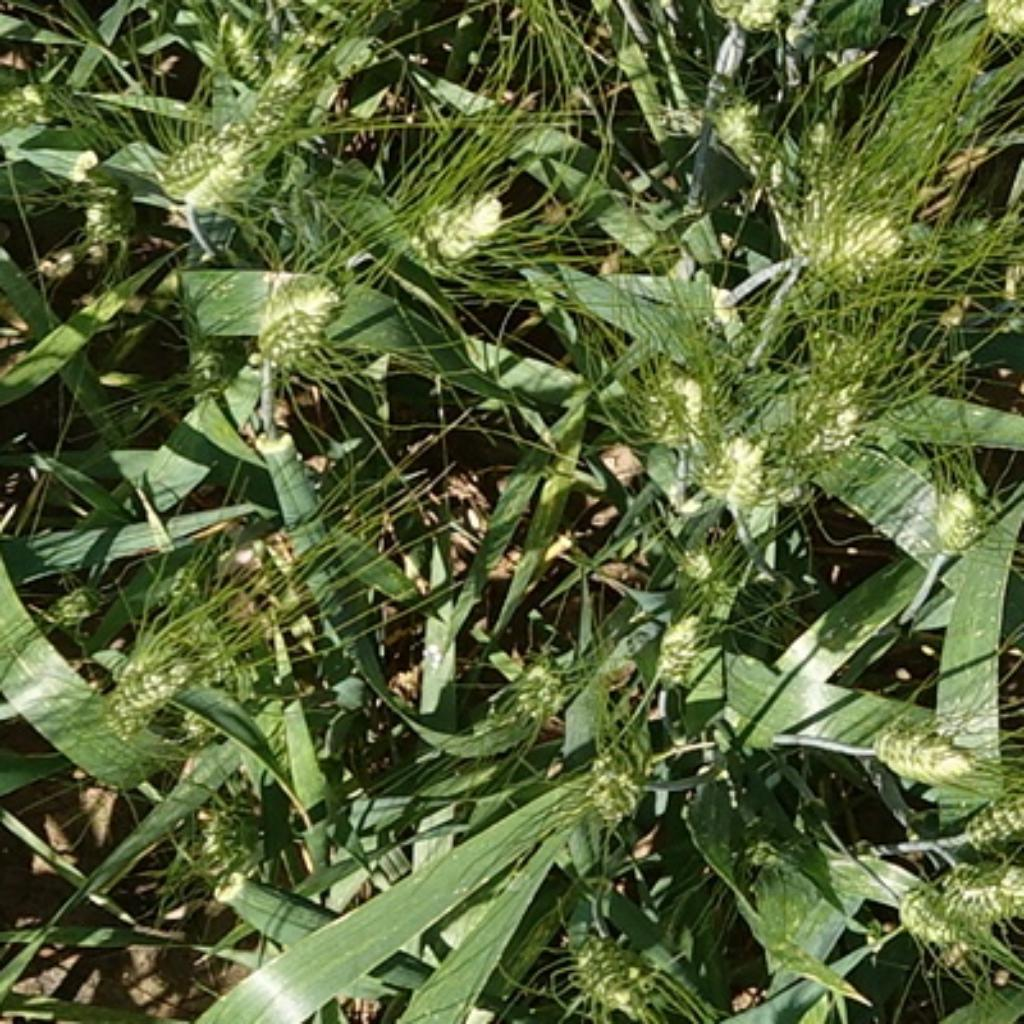0-0: (890, 844, 1024, 952), (770, 112, 865, 258), (382, 168, 515, 268), (555, 714, 665, 826), (92, 622, 207, 727), (560, 916, 670, 1024), (156, 117, 273, 217), (611, 358, 729, 455), (870, 76, 954, 207), (244, 270, 344, 367), (796, 217, 916, 296), (683, 66, 770, 168), (488, 632, 576, 729), (791, 371, 885, 458), (181, 783, 266, 872), (865, 716, 977, 783), (192, 2, 281, 81), (916, 471, 993, 560), (954, 752, 1024, 847), (698, 424, 775, 509), (663, 527, 744, 606), (248, 46, 335, 110), (66, 181, 135, 248), (2, 79, 74, 140), (647, 606, 706, 680), (166, 335, 232, 401), (43, 563, 115, 622), (962, 0, 1024, 64), (683, 0, 819, 28)
